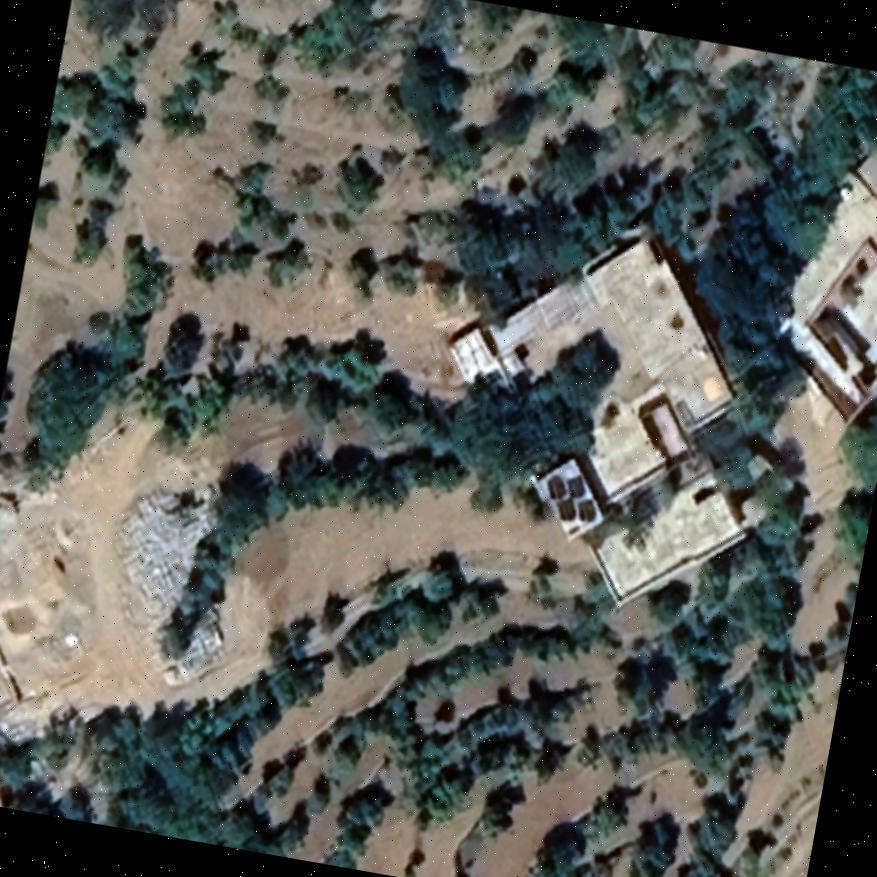Solarpanel: (545, 470, 568, 503), (574, 496, 600, 524), (554, 496, 580, 524), (566, 473, 588, 499)
